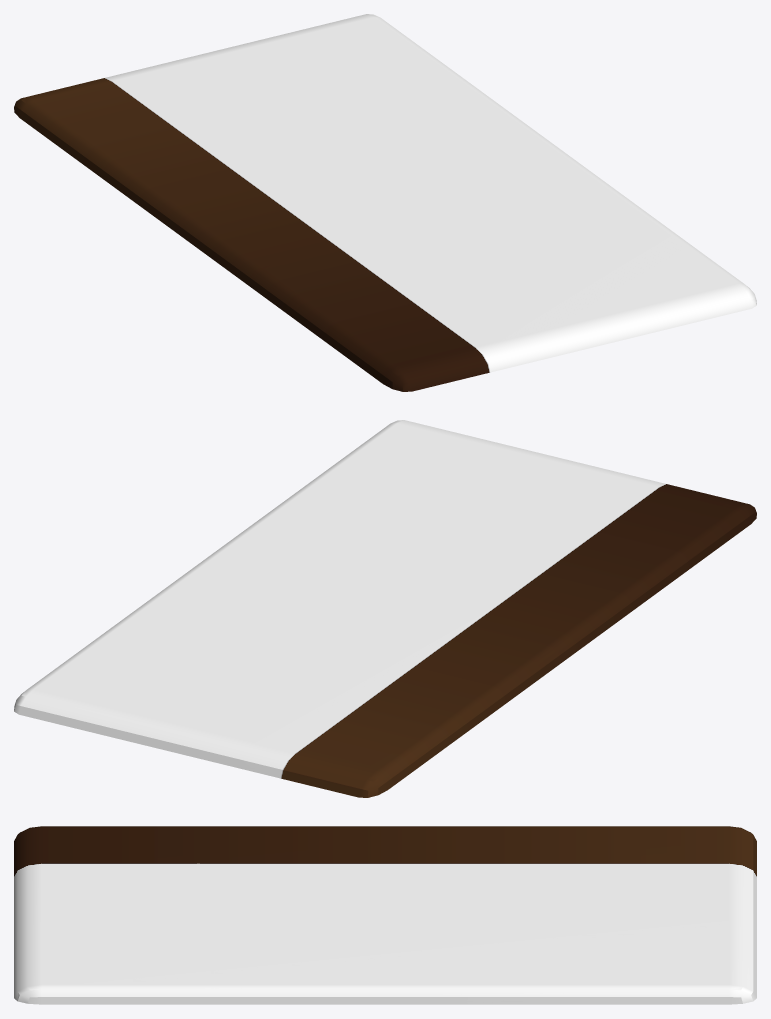
The model's file is grille.fbx.
3 renders of one model, top to bottom at view 1: azimuth 30°, elevation 25°; view 2: azimuth 150°, elevation 25°; view 3: azimuth 270°, elevation 25°, orthographic. The views are drawn at different scales.
Parts seen in each view (by area): view 1: Grille; view 2: Grille; view 3: Grille.
Boxes of the visible parts, box(x1,y1,x2,y2) form: Grille: box(14, 14, 756, 391); Grille: box(14, 420, 756, 797); Grille: box(14, 826, 756, 1004).
Size of the model in its own units: 1.5 by 0.0561 by 2.77.
1 material, 1 textured.
